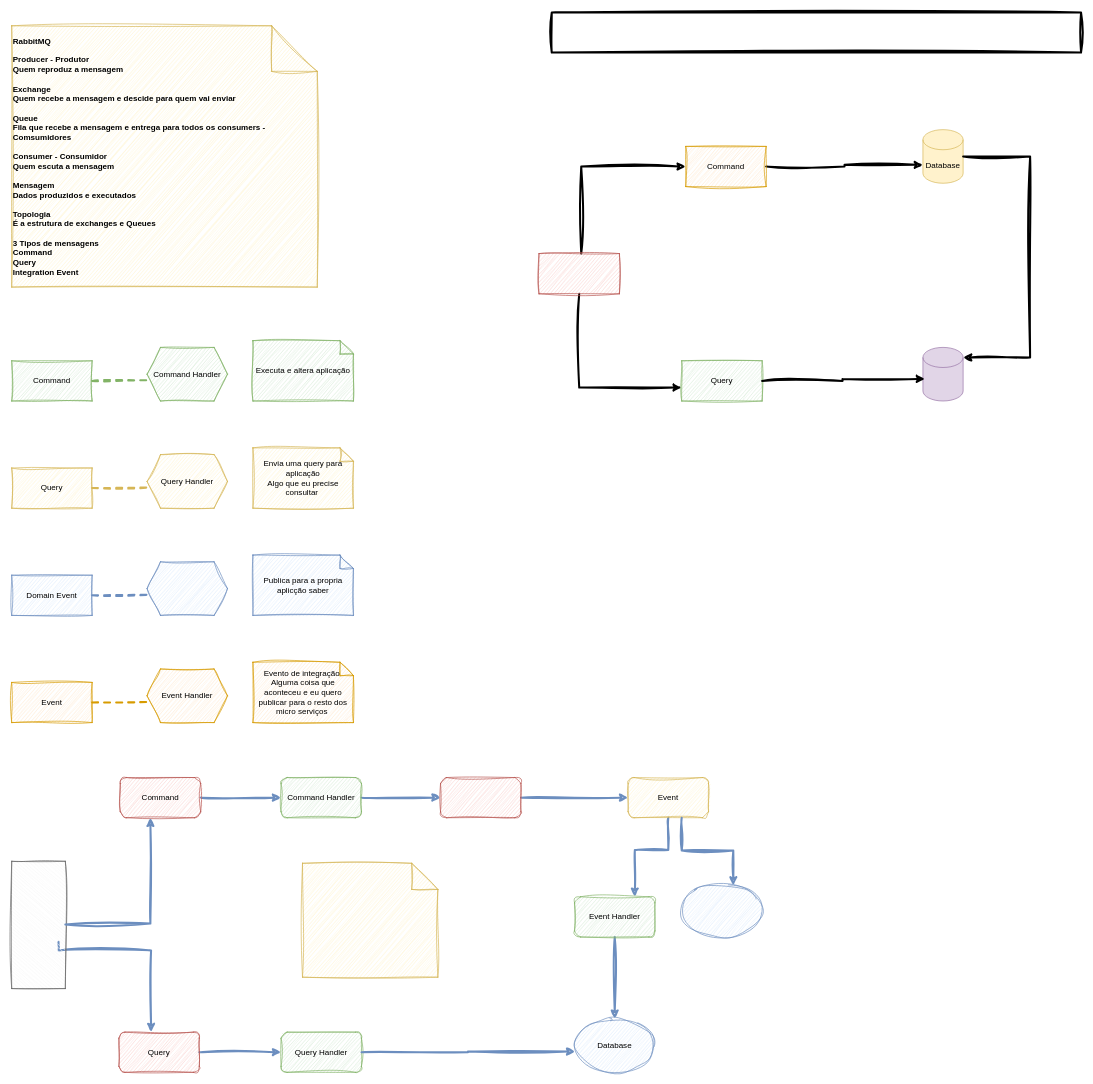
The diagram is 1093 pixels wide and 1084 high, and some of its shapes have lost their labels. The shapes that lost their labels are listed below. From the top down, each one's centre as x and y in pixels, then its label:
(816,32): CQRS - Pattern
(578,273): API
(942,374): Redis
(186,588): Domain Event Handler
(480,797): Domain
(38,925): Client
(370,920): Event Sourcing With CQRS
(721,910): Event Store
